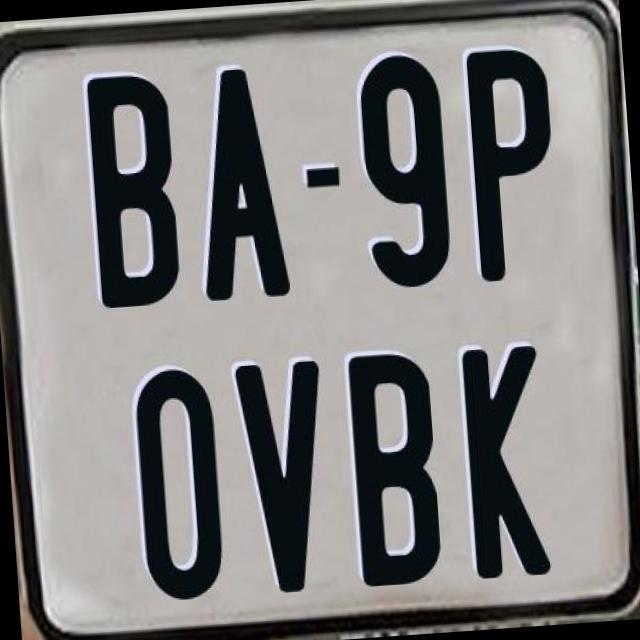0: (131, 363, 228, 606)
9: (356, 50, 458, 287)
A: (188, 67, 288, 309)
B: (346, 347, 449, 585), (87, 72, 186, 316)
K: (459, 340, 558, 580)
P: (465, 42, 562, 288)
V: (232, 360, 334, 598)
